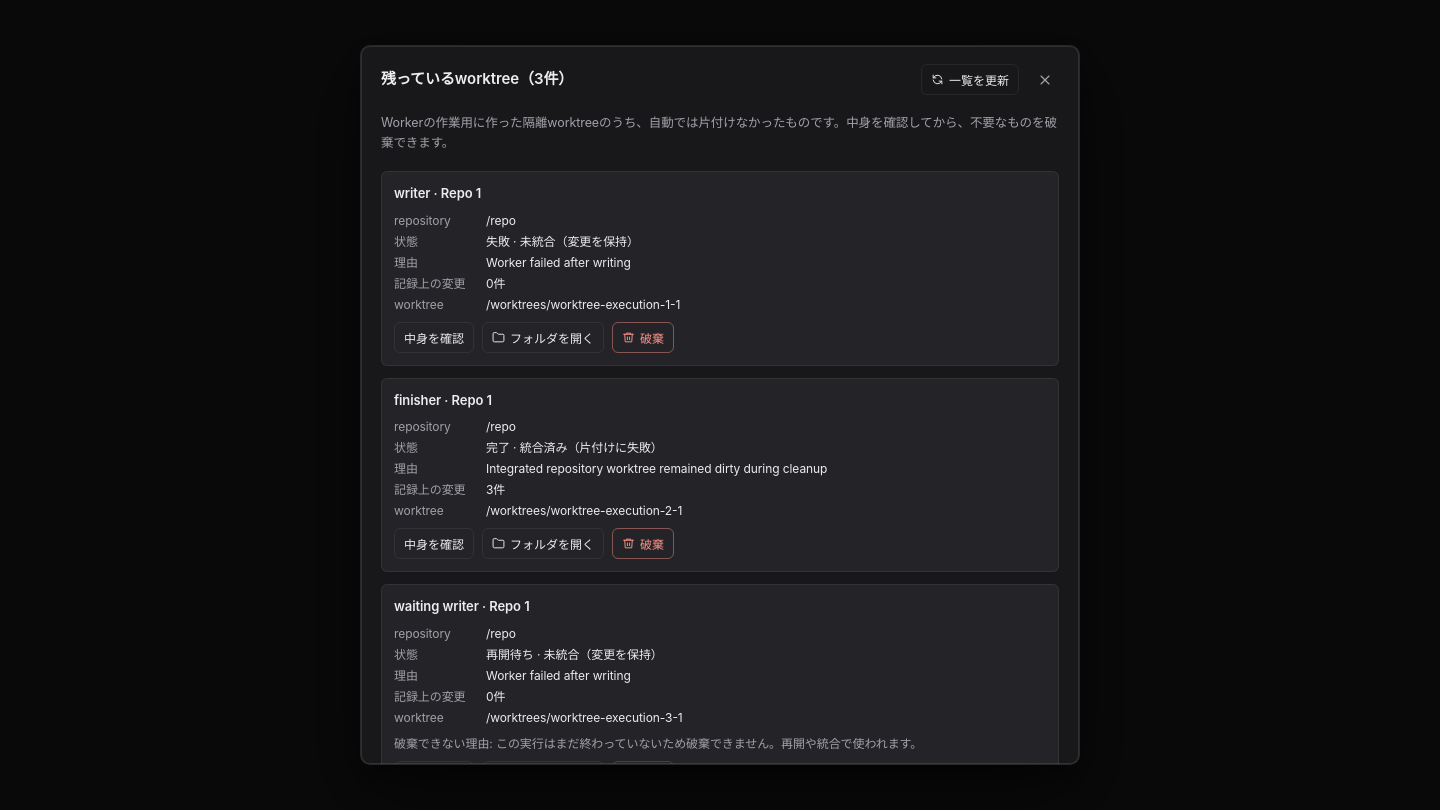
Scenario: TeamRetainedWorktreesDialog (issue #544) › says an integrated worktree only removes what is left, and cancelling sends nothing
Click the button "破棄" below "finisher · Repo 1".
click(643, 544)  # box left=612, top=528, right=674, bottom=559
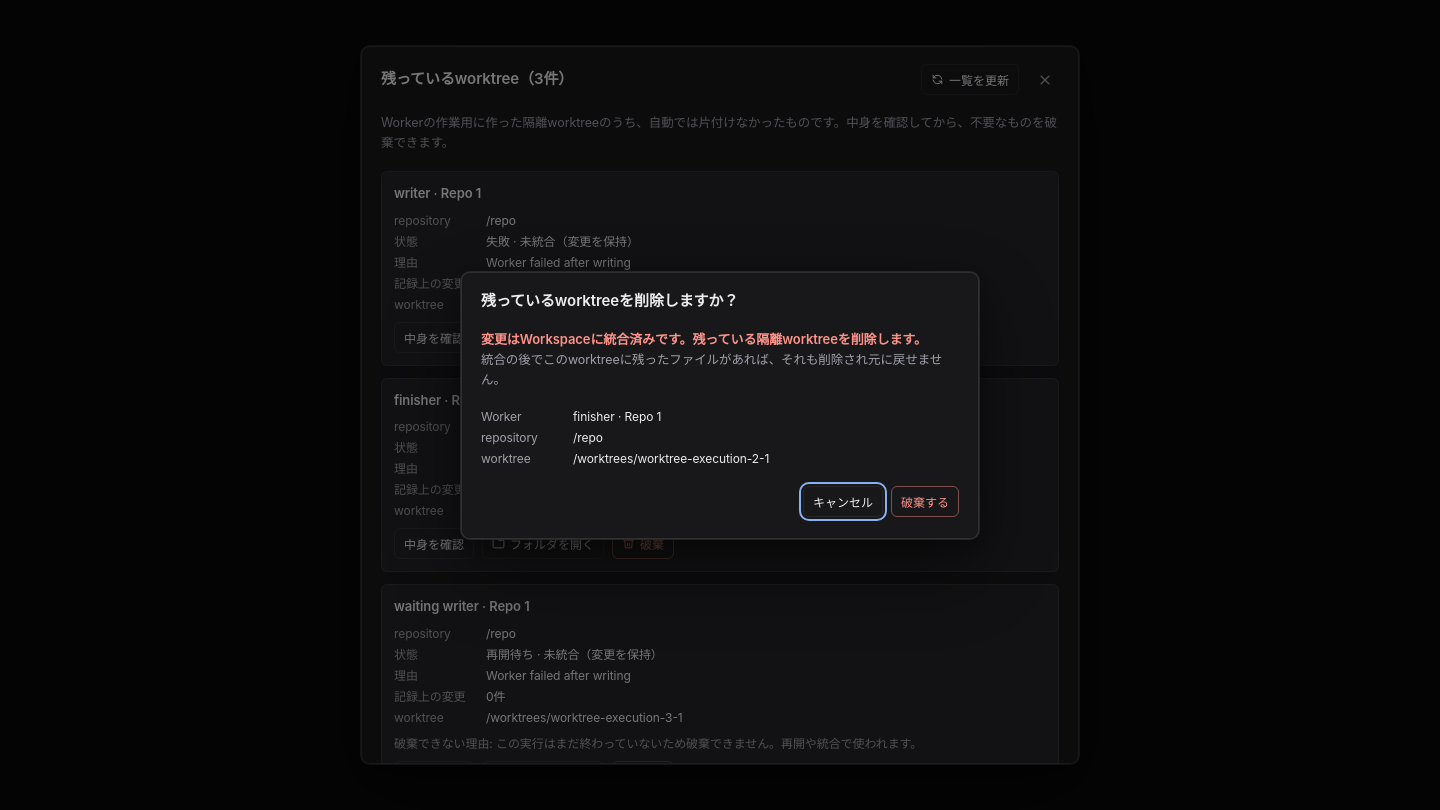
Expected: the text with test id "team-retained-confirm-warning" reads "変更はWorkspaceに統合済みです。残っている隔離worktreeを削除します。", left=481, top=331, right=927, bottom=347
Click the button with test id "team-retained-confirm-cancel".
click(843, 501)  # box left=803, top=486, right=883, bottom=516
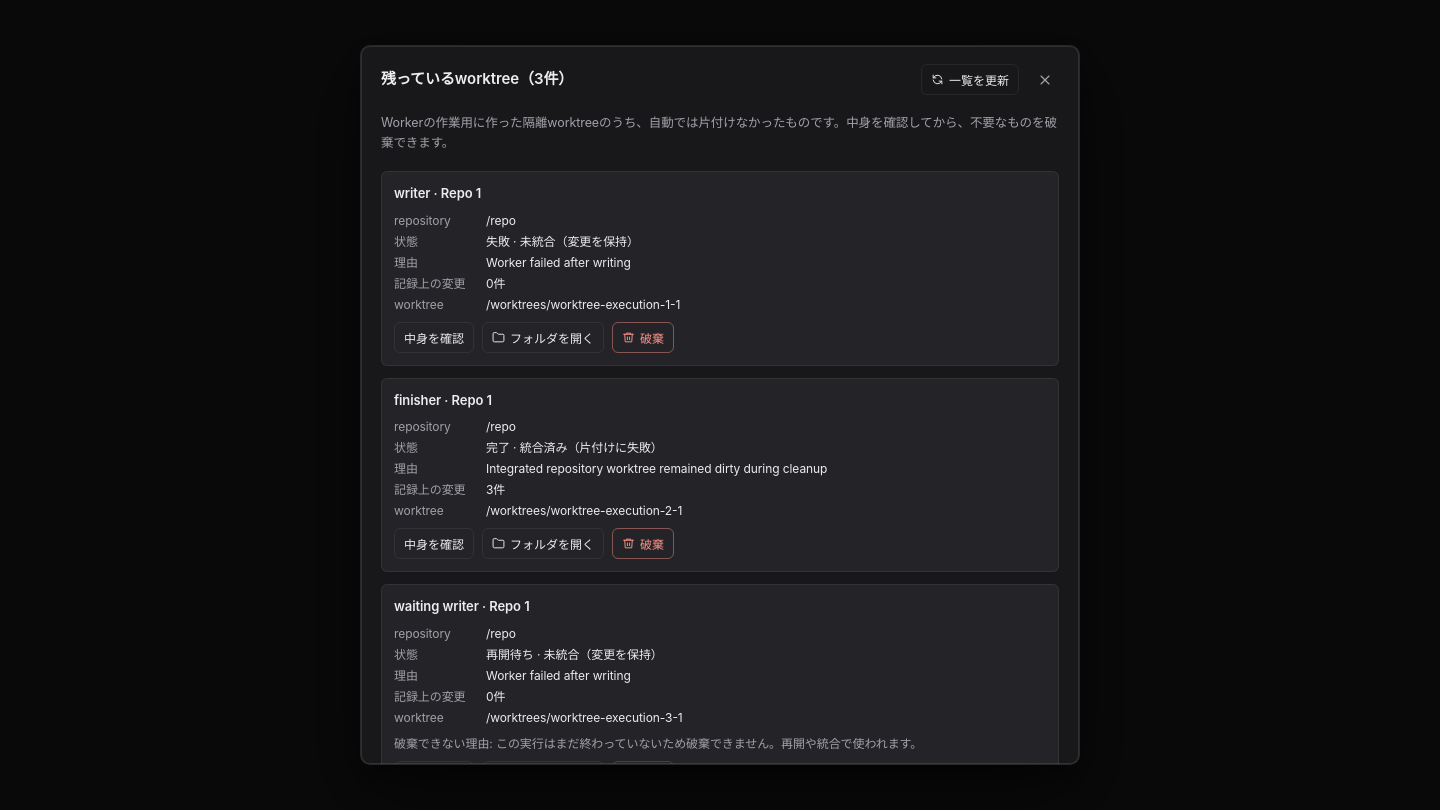
Expected: the dialog with test id "team-retained-confirm" is gone
